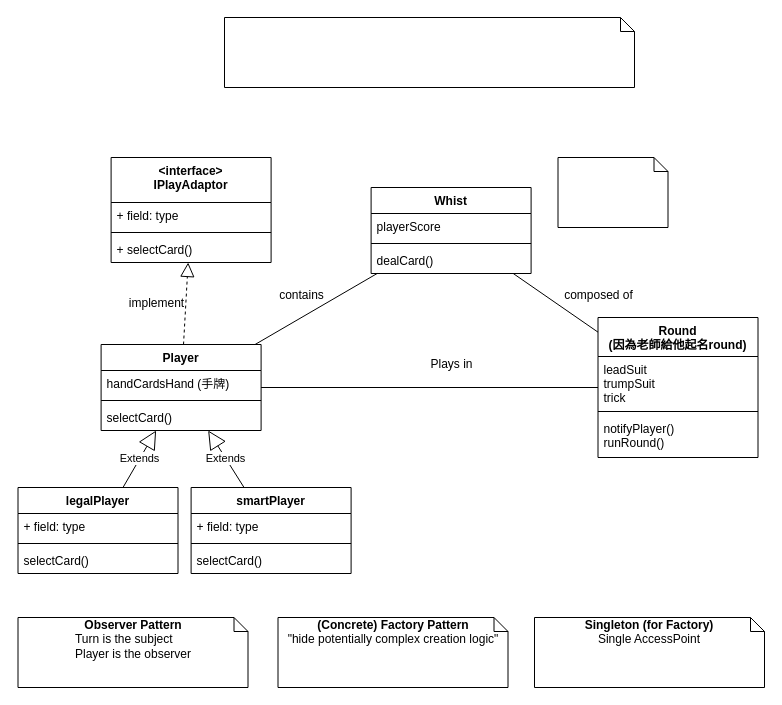
Some shapes in this 782 by 705 pixel diagram are drawn without their labels. Here are the shapes that lost their labels. From the top down, the centre of each, then its label:
At (x=429, y=52): "名詞 Game (局): 從開始到有玩家勝出 (分數) Turn (回合): 從分派手牌到手牌耗盡 Round (輪): 4個人出牌".
At (x=612, y=192): "Whist class provides access point to player(s).".
